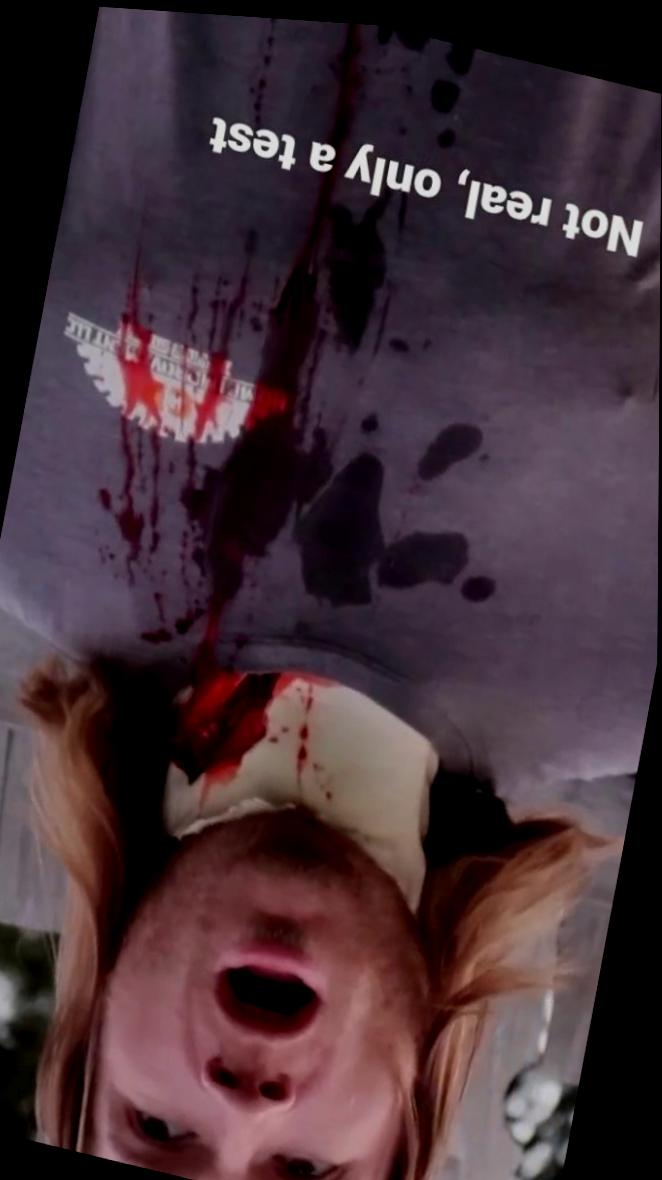Fire: (69, 18, 363, 820)
